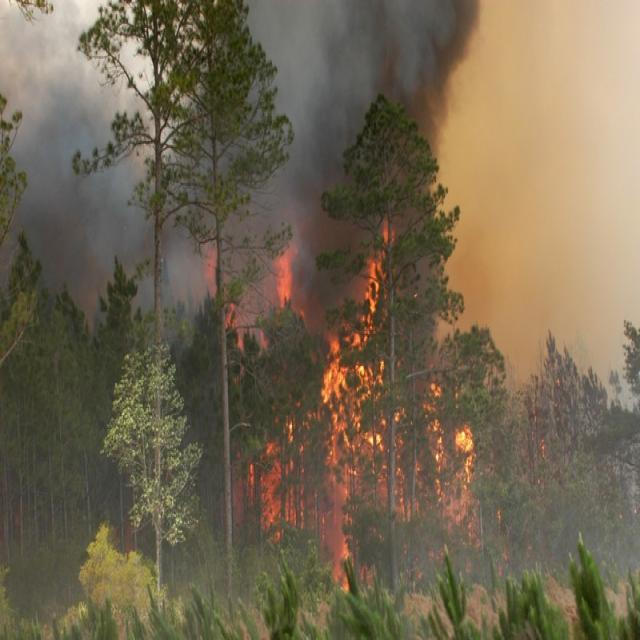Fire: (258, 280, 478, 606)
Smoke: (0, 0, 472, 291)
